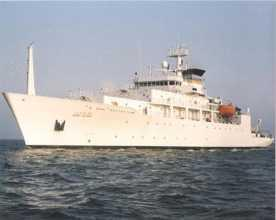warship: (1, 47, 275, 149)
